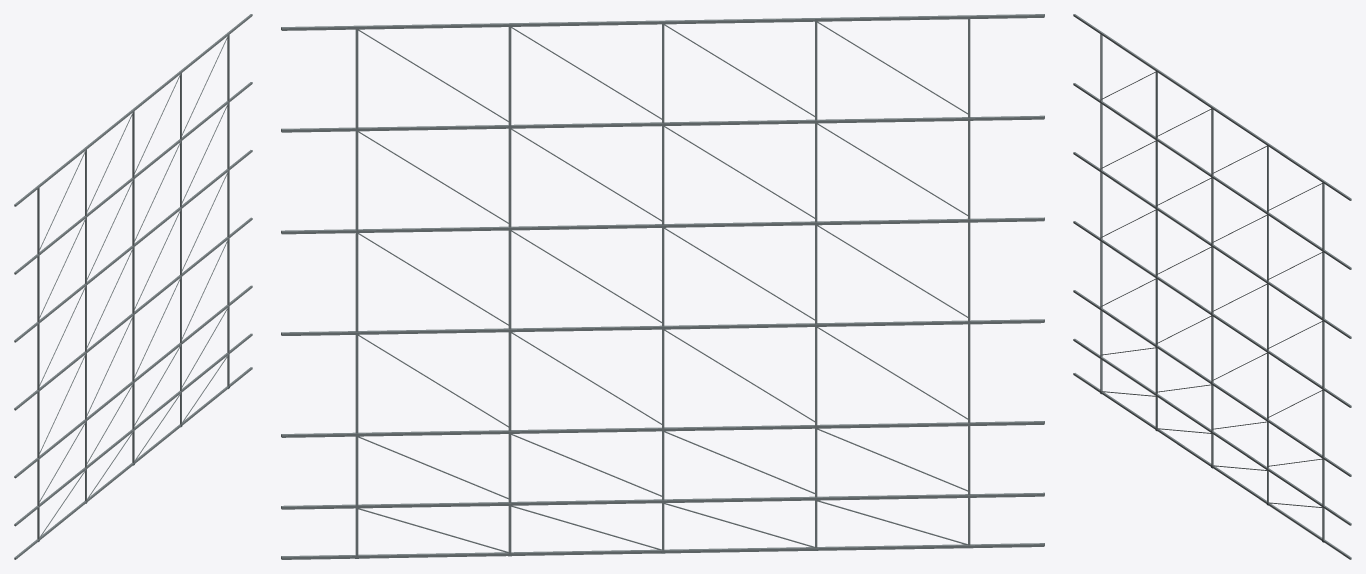
Rendered from G7_MiddleExterior_E08_r001.glb.
The picture shows the model from 3 angles, left to right: view 1: azimuth 30°, elevation 25°; view 2: azimuth 150°, elevation 25°; view 3: azimuth 270°, elevation 25°; orthographic projection. The views are drawn at different scales.
Visible parts, largest first — view 1: G7_MiddleExterior_E08_frame; view 2: G7_MiddleExterior_E08_frame; view 3: G7_MiddleExterior_E08_frame.
Part boxes in pixels (x1=…): G7_MiddleExterior_E08_frame: x1=14, y1=14, x2=252, y2=559; G7_MiddleExterior_E08_frame: x1=281, y1=14, x2=1044, y2=559; G7_MiddleExterior_E08_frame: x1=1073, y1=14, x2=1351, y2=559.
Size of the model in its own units: 48.98 by 44.5 by 31.1.
Materials: 2 (2 with a texture image).
